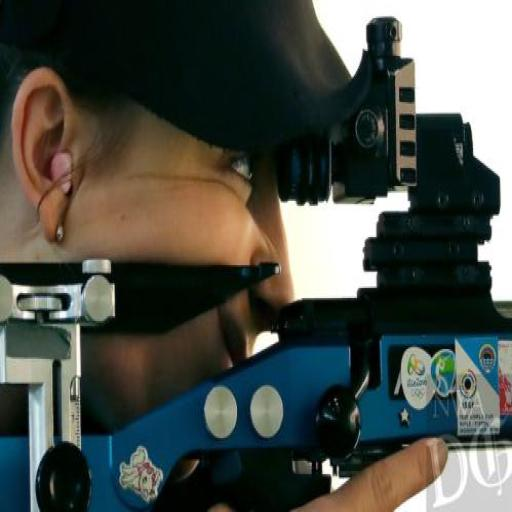shooting: (13, 29, 511, 512)
